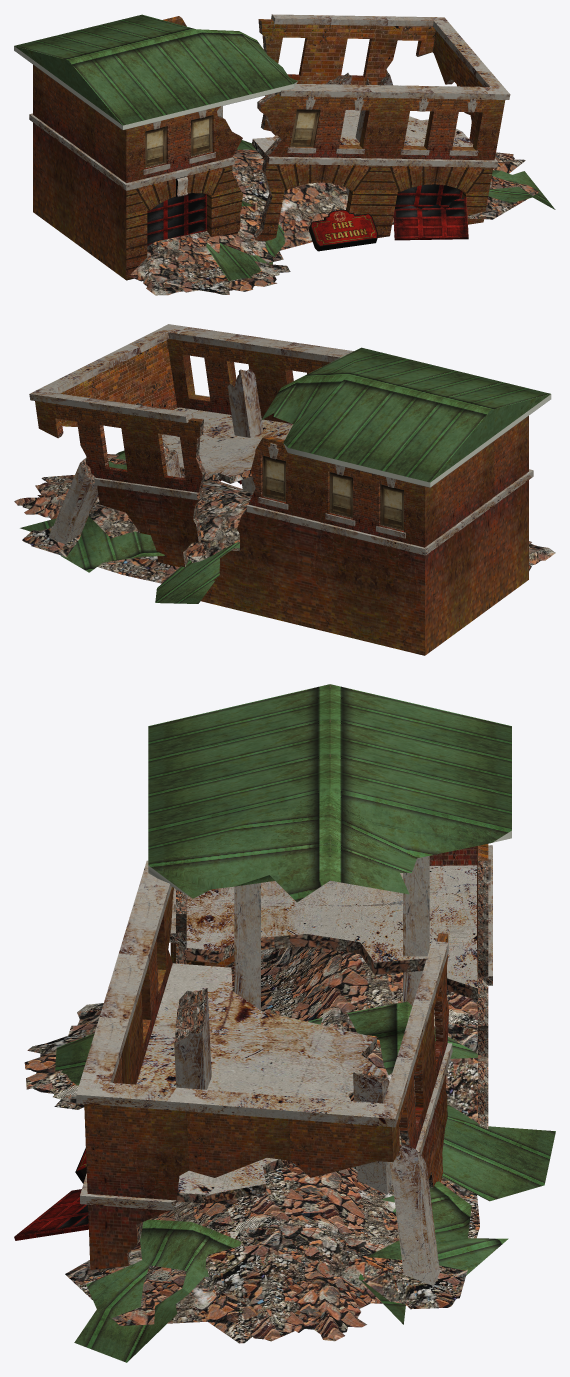
The model's file is collapsed_fire_station.dae.
The picture shows the model from 3 angles, top to bottom: view 1: azimuth 30°, elevation 25°; view 2: azimuth 150°, elevation 25°; view 3: azimuth 270°, elevation 25°; orthographic projection. The views are drawn at different scales.
Visible parts, largest first — view 1: Destroyed_FireStation; view 2: Destroyed_FireStation; view 3: Destroyed_FireStation.
Part boxes in pixels (<box>): Destroyed_FireStation: <box>14,14,555,295</box>; Destroyed_FireStation: <box>14,324,555,655</box>; Destroyed_FireStation: <box>14,684,555,1362</box>.
Size of the model in its own units: 1101 by 720 by 492.
